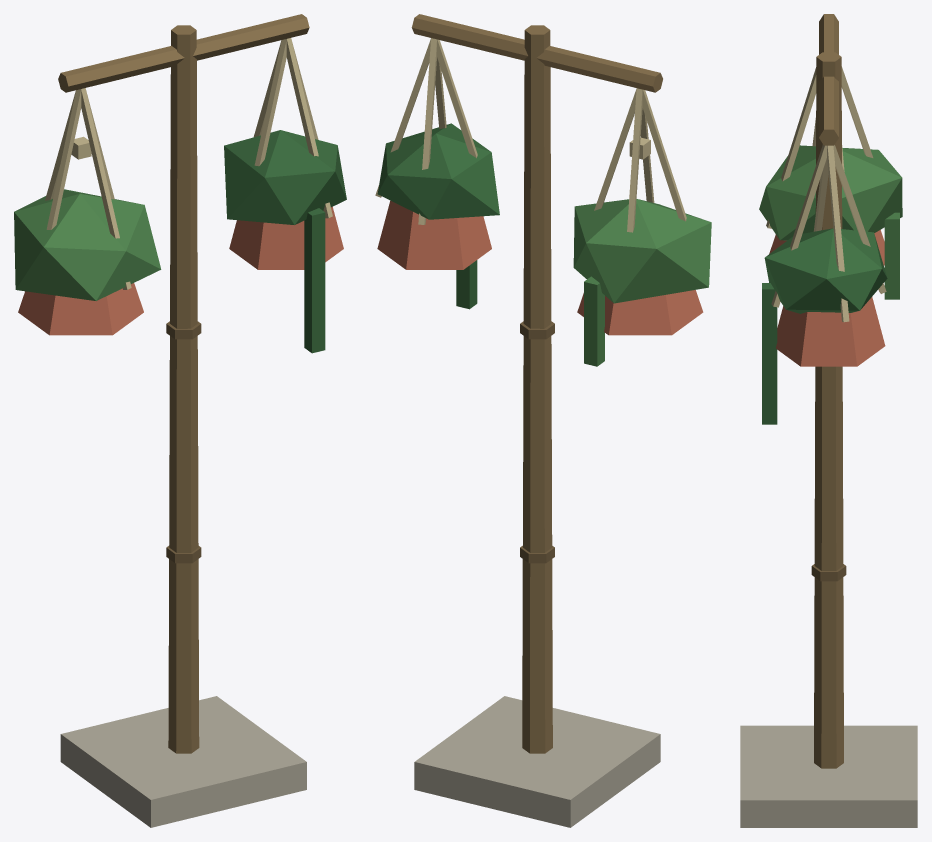
File: plant-hanger-43.glb
3 renders of one model, left to right at view 1: azimuth 30°, elevation 25°; view 2: azimuth 150°, elevation 25°; view 3: azimuth 270°, elevation 25°, orthographic.
Visible parts, largest first — view 1: plant_hanger_43; view 2: plant_hanger_43; view 3: plant_hanger_43.
Part boxes in pixels (left/top/right/bottom): plant_hanger_43: left=14, top=14, right=346, bottom=827; plant_hanger_43: left=375, top=14, right=711, bottom=827; plant_hanger_43: left=740, top=14, right=917, bottom=827.
Size of the model in its own units: 0.7252 by 1.6 by 0.3499.
